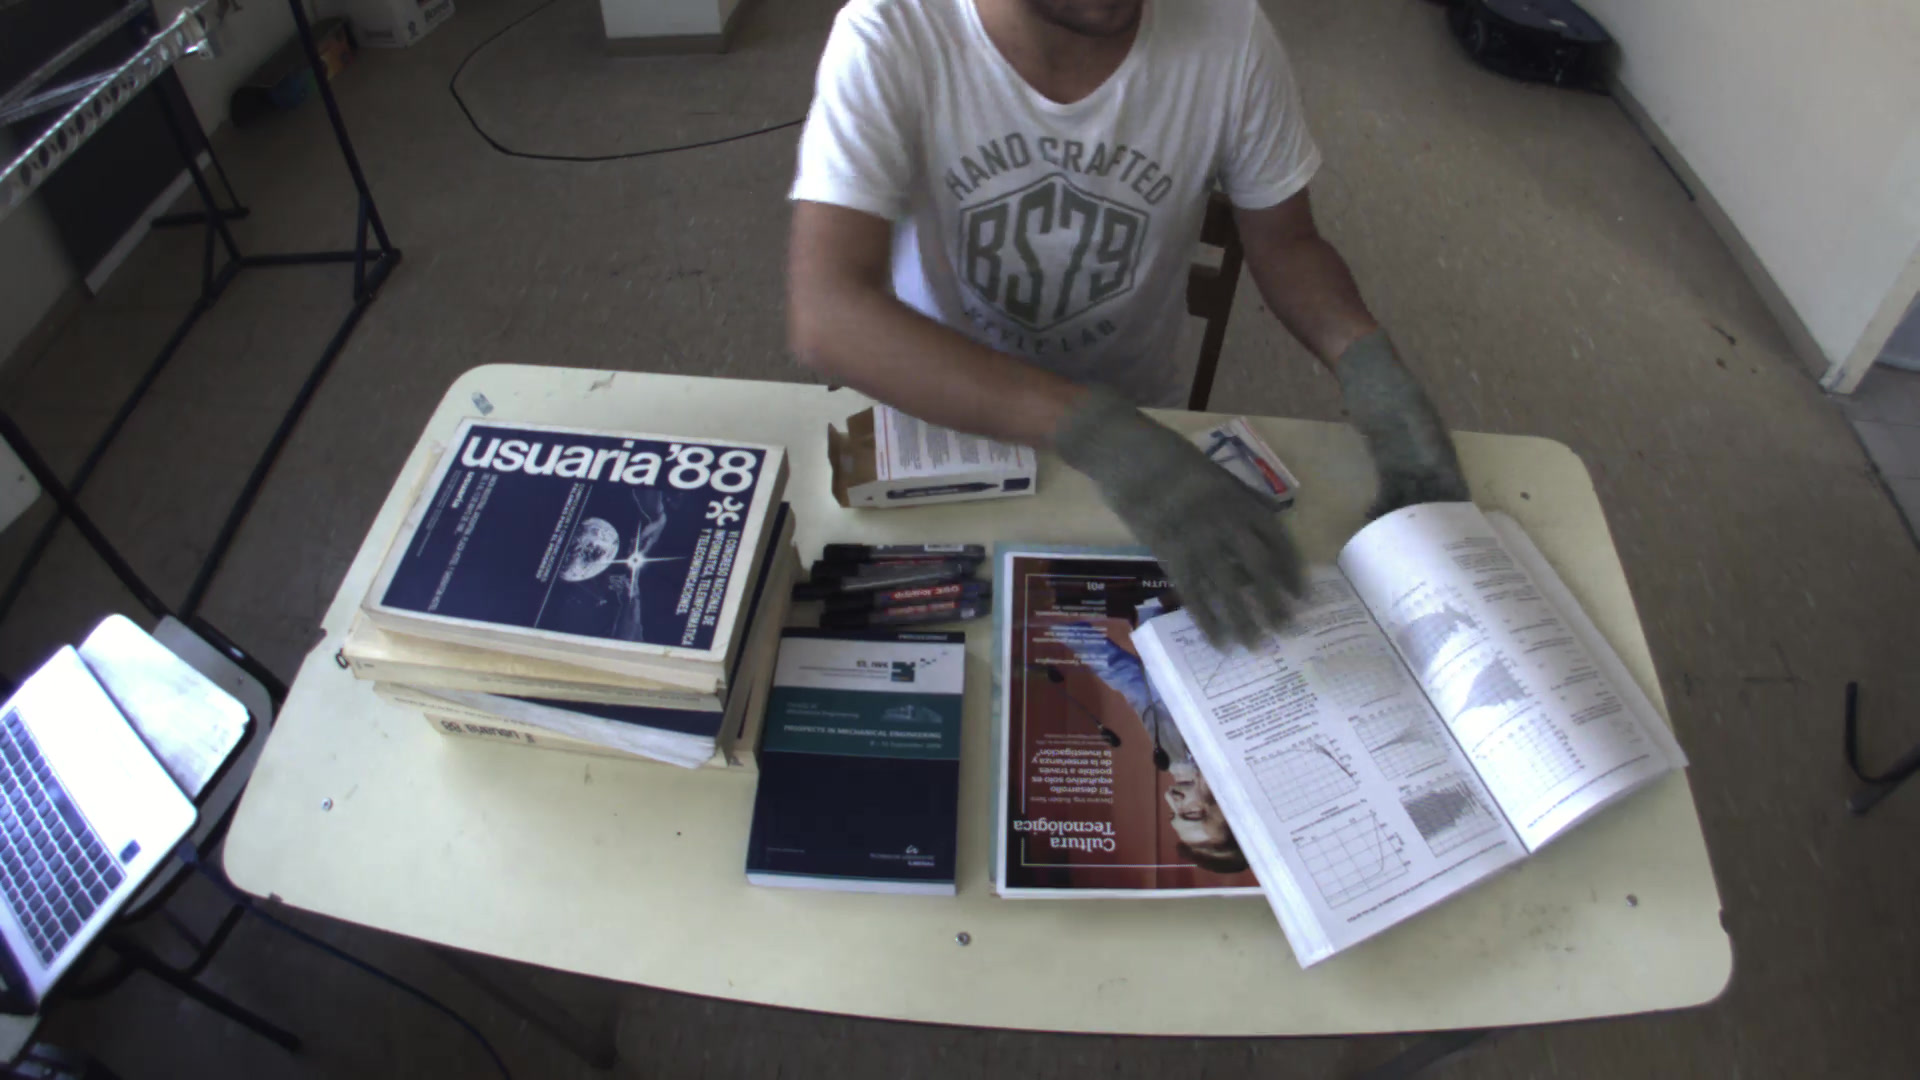hand: (1035, 398, 1325, 661), (1323, 313, 1489, 554)
